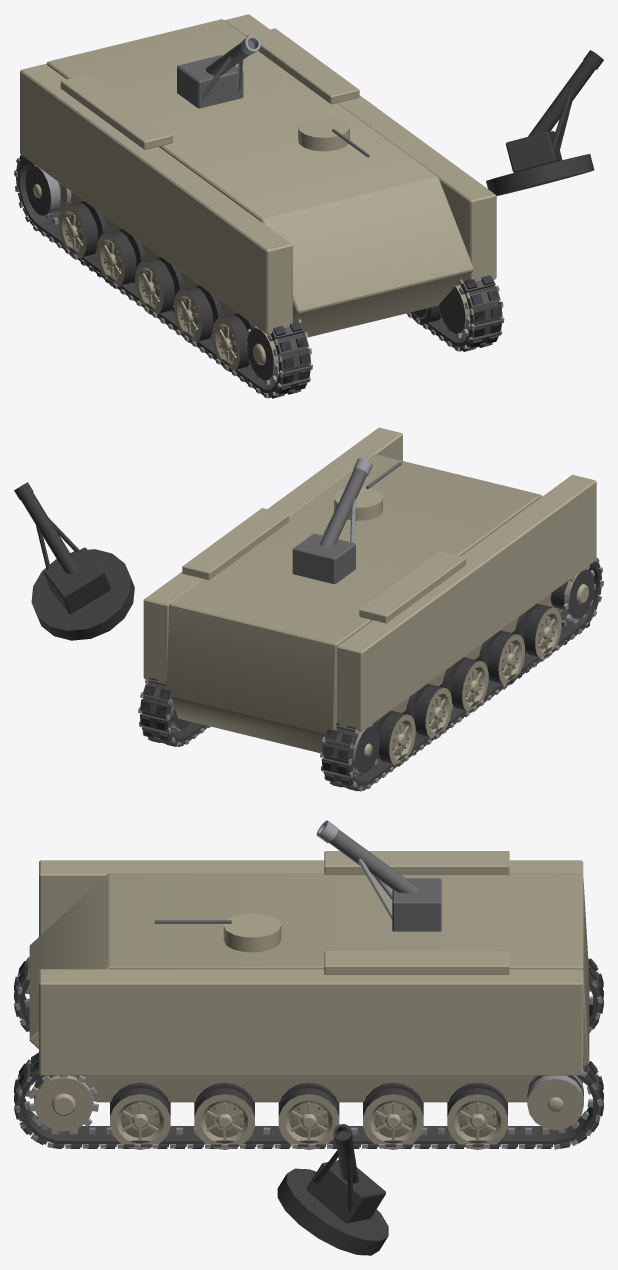
The model's file is artillery__k242a1.glb.
3 renders of one model, top to bottom at view 1: azimuth 30°, elevation 25°; view 2: azimuth 150°, elevation 25°; view 3: azimuth 270°, elevation 25°, orthographic. The views are drawn at different scales.
Parts seen in each view (by area): view 1: Hull_Mesh, Wreck, Track_L_Mesh, Track_R_Mesh, Turret_Mesh, Wheel_L2_Mesh, Wheel_L0_Mesh, Wheel_L1_Mesh, Wheel_L3_Mesh, Wheel_L4_Mesh, Idler_L_Mesh, Sprocket_L_Mesh (+2 smaller); view 2: Hull_Mesh, Wreck, Track_L_Mesh, Turret_Mesh, Track_R_Mesh, Wheel_L2_Mesh, Wheel_L1_Mesh, Wheel_L3_Mesh, Wheel_L4_Mesh, Wheel_L0_Mesh, Gun_Mesh, Sprocket_L_Mesh (+1 smaller); view 3: Hull_Mesh, Wreck, Track_R_Mesh, Wheel_R4_Mesh, Wheel_R3_Mesh, Wheel_R0_Mesh, Wheel_R1_Mesh, Wheel_R2_Mesh, Sprocket_R_Mesh, Idler_R_Mesh, Turret_Mesh, Gun_Mesh (+1 smaller).
Part boxes in pixels (left/top/right/bottom): Hull_Mesh: left=20, top=14, right=496, bottom=337; Wreck: left=15, top=50, right=603, bottom=397; Track_L_Mesh: left=14, top=154, right=312, bottom=398; Track_R_Mesh: left=407, top=275, right=504, bottom=351; Turret_Mesh: left=177, top=55, right=243, bottom=108; Wheel_L2_Mesh: left=135, top=257, right=187, bottom=315; Wheel_L0_Mesh: left=58, top=201, right=110, bottom=258; Wheel_L1_Mesh: left=97, top=229, right=149, bottom=286; Wheel_L3_Mesh: left=174, top=285, right=225, bottom=343; Wheel_L4_Mesh: left=212, top=313, right=252, bottom=371; Idler_L_Mesh: left=25, top=165, right=72, bottom=215; Sprocket_L_Mesh: left=245, top=324, right=278, bottom=385; Hull_Mesh: left=143, top=427, right=596, bottom=752; Wreck: left=14, top=482, right=603, bottom=791; Track_L_Mesh: left=320, top=558, right=603, bottom=791; Turret_Mesh: left=292, top=533, right=355, bottom=583; Track_R_Mesh: left=138, top=677, right=210, bottom=746; Wheel_L2_Mesh: left=439, top=657, right=488, bottom=712; Wheel_L1_Mesh: left=402, top=683, right=451, bottom=739; Wheel_L3_Mesh: left=475, top=630, right=524, bottom=686; Wheel_L4_Mesh: left=512, top=603, right=561, bottom=658; Wheel_L0_Mesh: left=372, top=710, right=415, bottom=765; Gun_Mesh: left=320, top=458, right=372, bottom=546; Sprocket_L_Mesh: left=547, top=565, right=595, bottom=623; Hull_Mesh: left=29, top=851, right=589, bottom=1102; Wreck: left=14, top=959, right=603, bottom=1255; Track_R_Mesh: left=14, top=1053, right=603, bottom=1149; Wheel_R4_Mesh: left=110, top=1082, right=170, bottom=1149; Wheel_R3_Mesh: left=194, top=1082, right=254, bottom=1149; Wheel_R0_Mesh: left=447, top=1082, right=507, bottom=1149; Wheel_R1_Mesh: left=363, top=1082, right=423, bottom=1149; Wheel_R2_Mesh: left=278, top=1082, right=339, bottom=1149; Sprocket_R_Mesh: left=28, top=1075, right=98, bottom=1134; Idler_R_Mesh: left=527, top=1075, right=583, bottom=1130; Turret_Mesh: left=392, top=878, right=441, bottom=931; Gun_Mesh: left=316, top=820, right=420, bottom=919.
Size of what is drawn, in the model's own units: 5.84 by 2.89 by 5.73.
